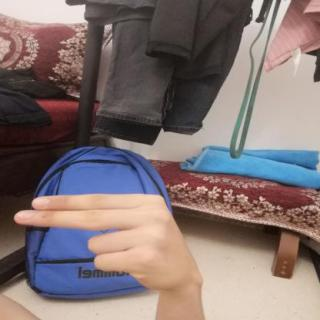AYN: (5, 188, 212, 298)
